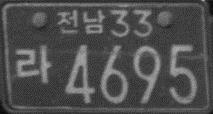3: (131, 8, 153, 38), (109, 8, 130, 38)
4: (64, 42, 96, 105)
5: (167, 42, 198, 105)
6: (100, 44, 129, 104)
9: (132, 44, 161, 104)
라: (14, 45, 52, 83)
전남_O: (56, 9, 105, 34)
